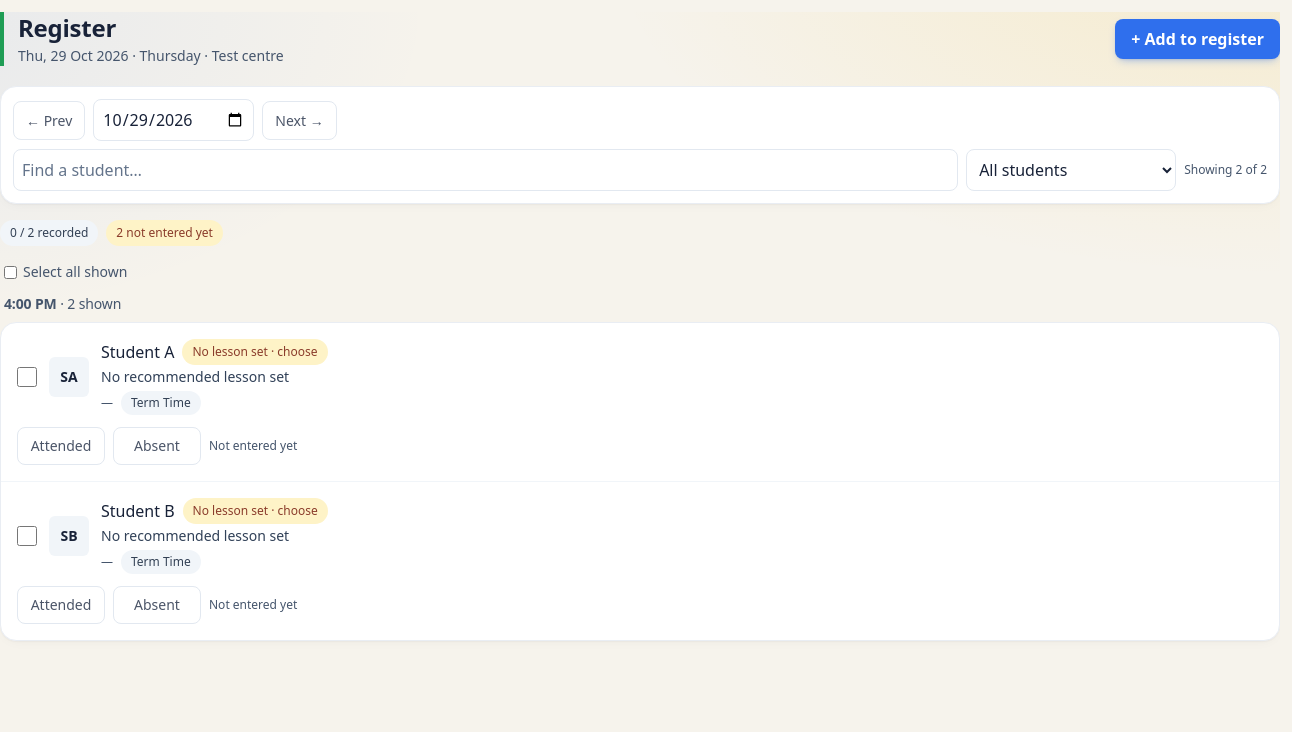
Test: register search and filters › limits select all to the shown students
Type "Student A" into the search field with placeholder "Find a student…" at [486, 170], box [13, 149, 958, 191]
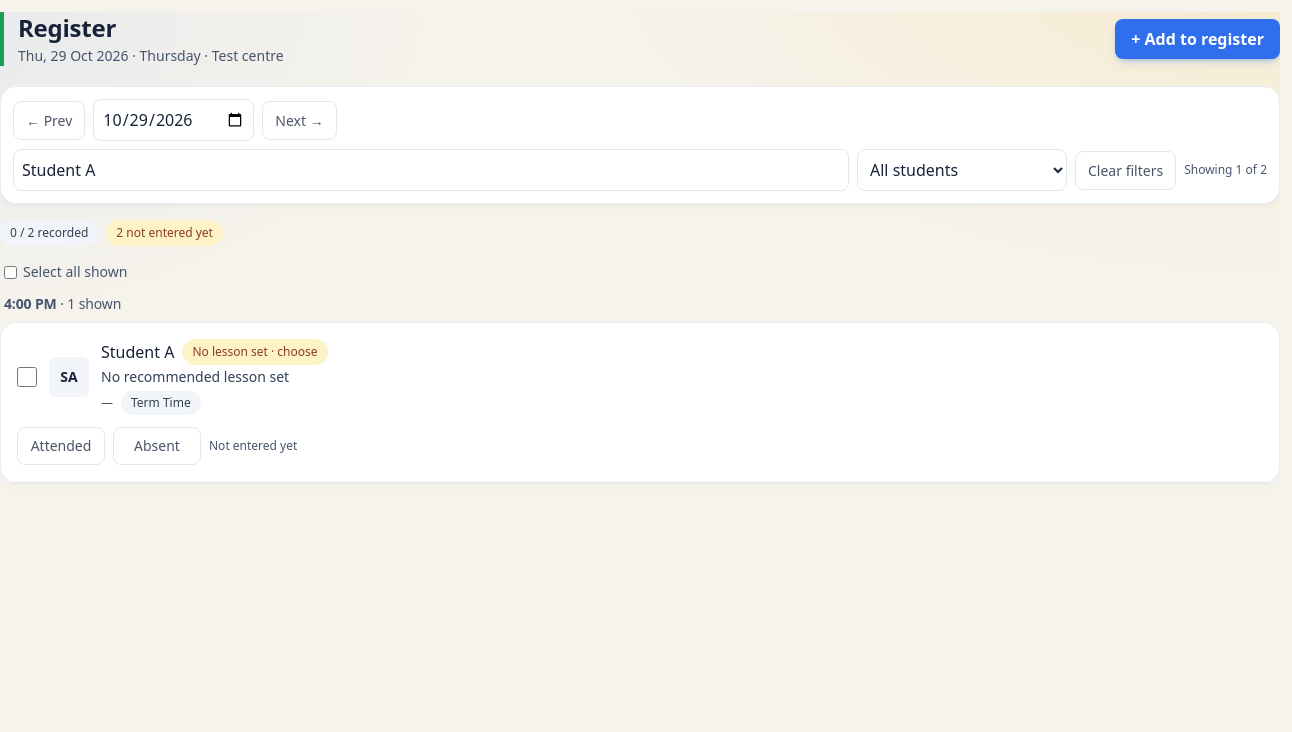
Click the checkbox labelled "Select all shown" at [10, 272], box [4, 266, 17, 278]
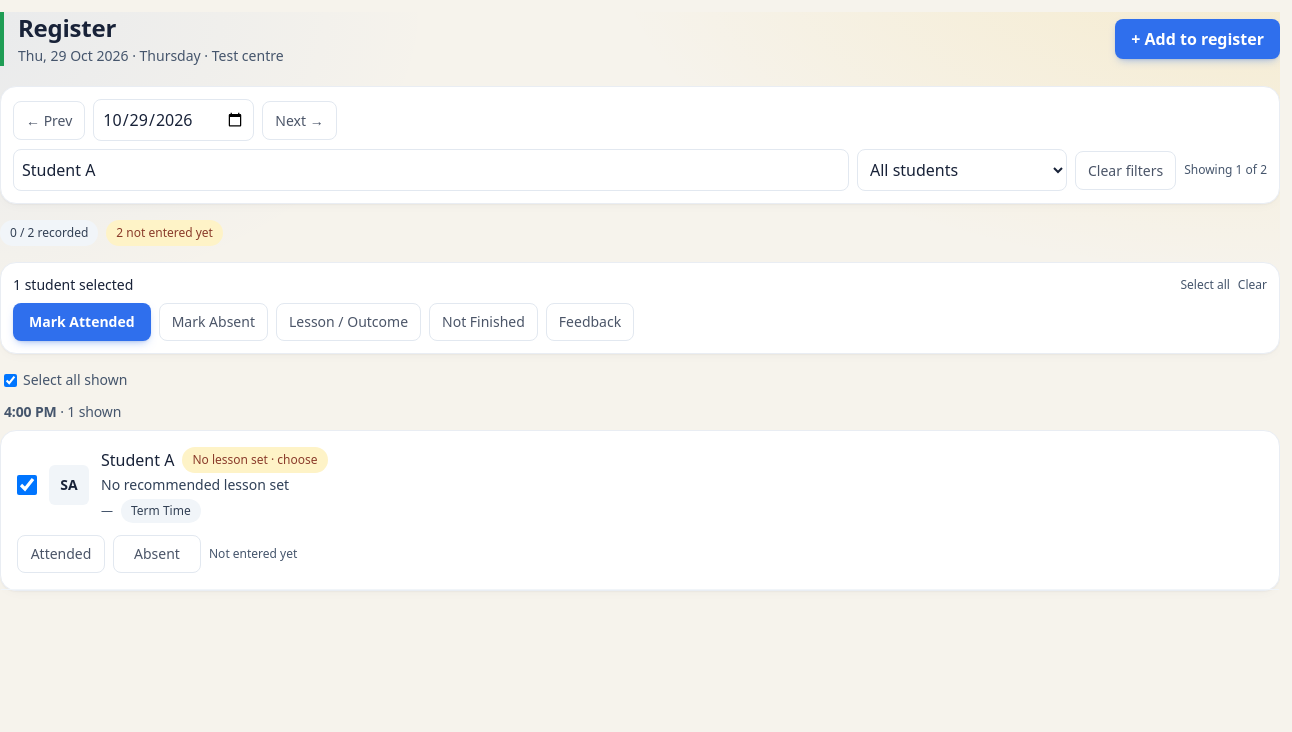
Check: the checkbox named "Select Student A" is checked, box [17, 475, 37, 495]
